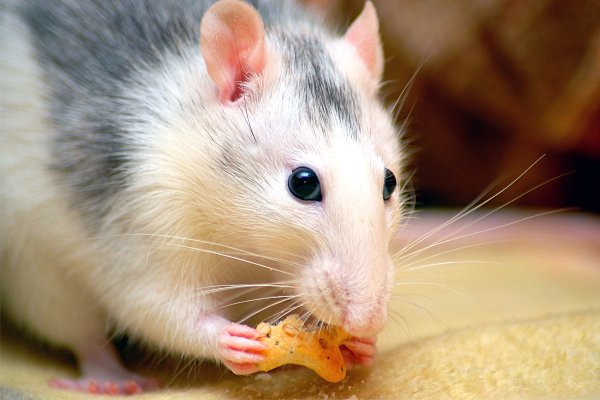rat: (34, 1, 441, 396)
